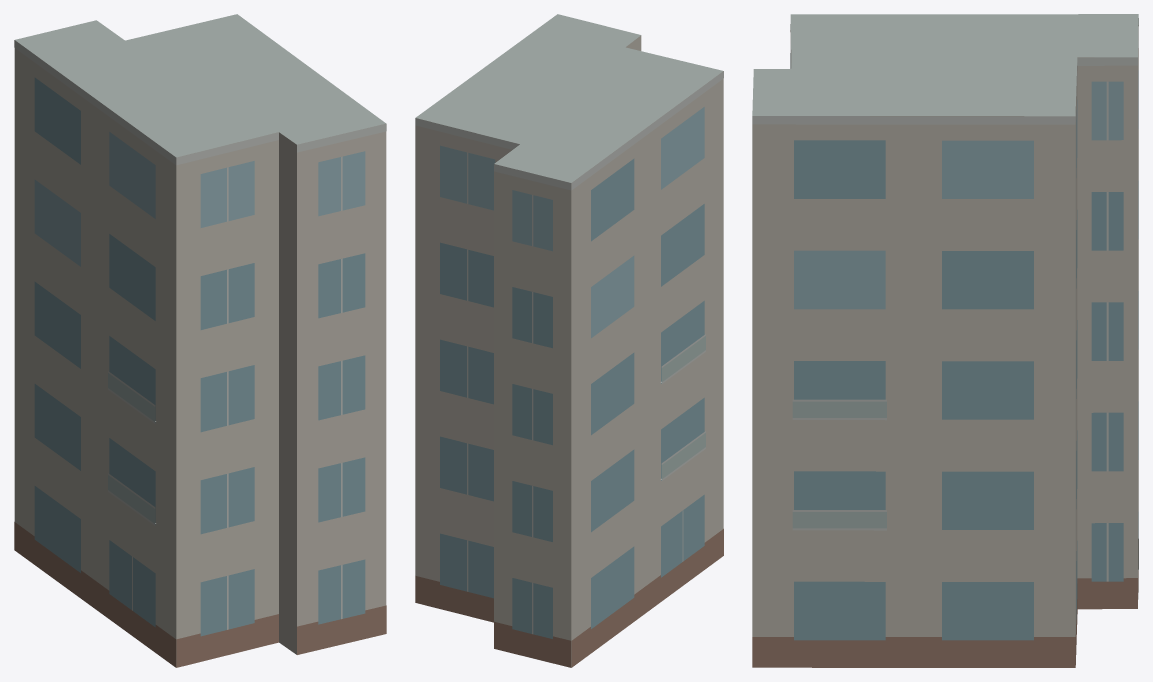
The model's file is survey-upis-32994530.glb.
3 renders of one model, left to right at view 1: azimuth 30°, elevation 25°; view 2: azimuth 150°, elevation 25°; view 3: azimuth 270°, elevation 25°, orthographic. The views are drawn at different scales.
Visible parts, largest first — view 1: survey-upis-32994530.tmp; view 2: survey-upis-32994530.tmp; view 3: survey-upis-32994530.tmp.
Part boxes in pixels (left/top/right/bottom): survey-upis-32994530.tmp: left=14, top=14, right=386, bottom=667; survey-upis-32994530.tmp: left=415, top=14, right=723, bottom=667; survey-upis-32994530.tmp: left=752, top=14, right=1138, bottom=667.
Size of the model in its own units: 6.33 by 15.8 by 10.04.
